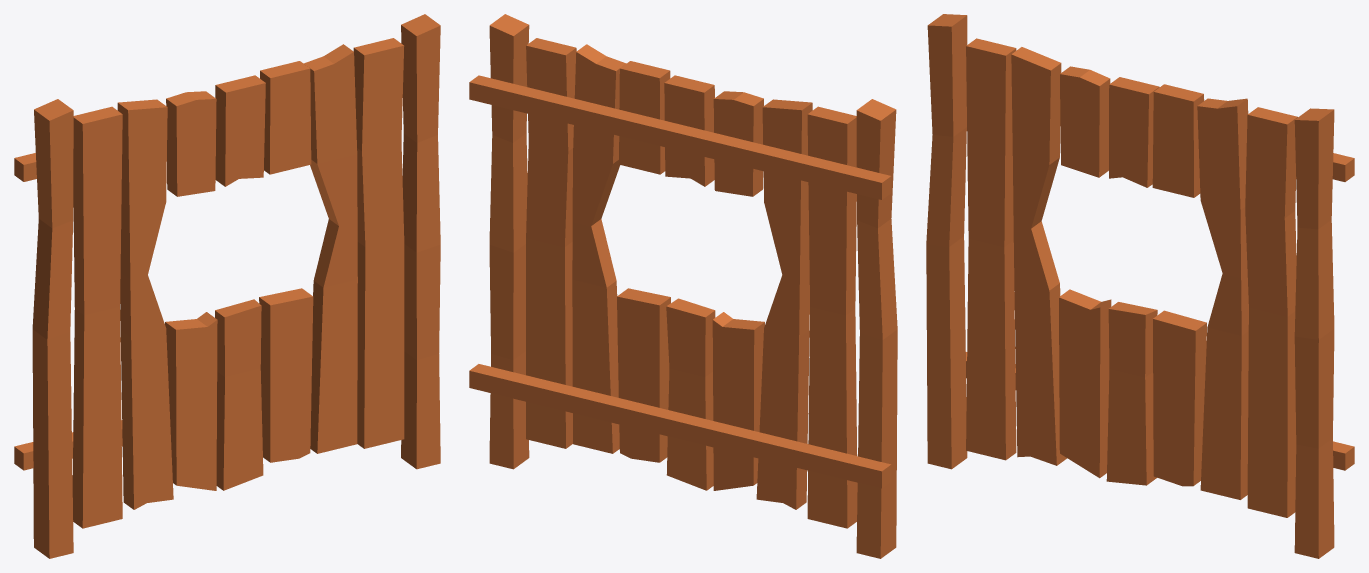
Rendered from Wood Window 3.glb.
3 views of the same model, side by side, from view 1: azimuth 30°, elevation 25°; view 2: azimuth 150°, elevation 25°; view 3: azimuth 330°, elevation 25° (orthographic).
Visible parts, largest first — view 1: WoodFence_Window3; view 2: WoodFence_Window3; view 3: WoodFence_Window3.
Boxes of the visible parts, x1,y1,x2,y2 form: WoodFence_Window3: (14,14,440,558); WoodFence_Window3: (469,14,897,558); WoodFence_Window3: (926,14,1354,558).
Bounding box in the file's own units: 2 × 2.05 × 0.2086.
